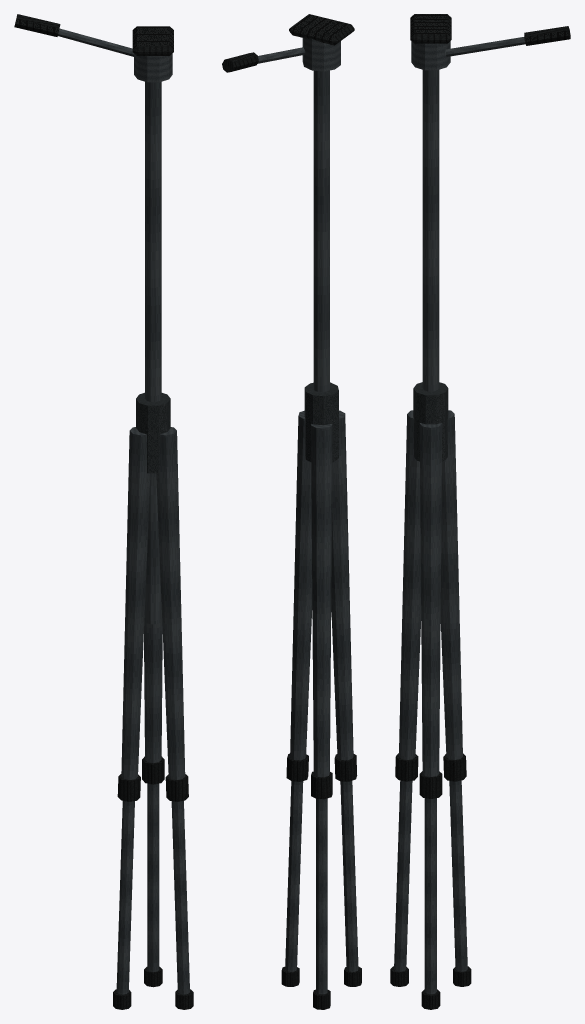
File: blender_tripod_3_folded.glb
3 views of the same model, side by side, from view 1: azimuth 90°, elevation 25°; view 2: azimuth 150°, elevation 25°; view 3: azimuth 270°, elevation 25° (orthographic).
Visible parts, largest first — view 1: blender_tripod_3_folded; view 2: blender_tripod_3_folded; view 3: blender_tripod_3_folded.
Boxes of the visible parts, <box> form: blender_tripod_3_folded: <box>14,14,193,1009</box>; blender_tripod_3_folded: <box>222,14,361,1009</box>; blender_tripod_3_folded: <box>390,14,570,1009</box>.
Bounding box in the file's own units: 0.0715 × 1.05 × 0.1748.
Materials: 3 (3 with a texture image).
